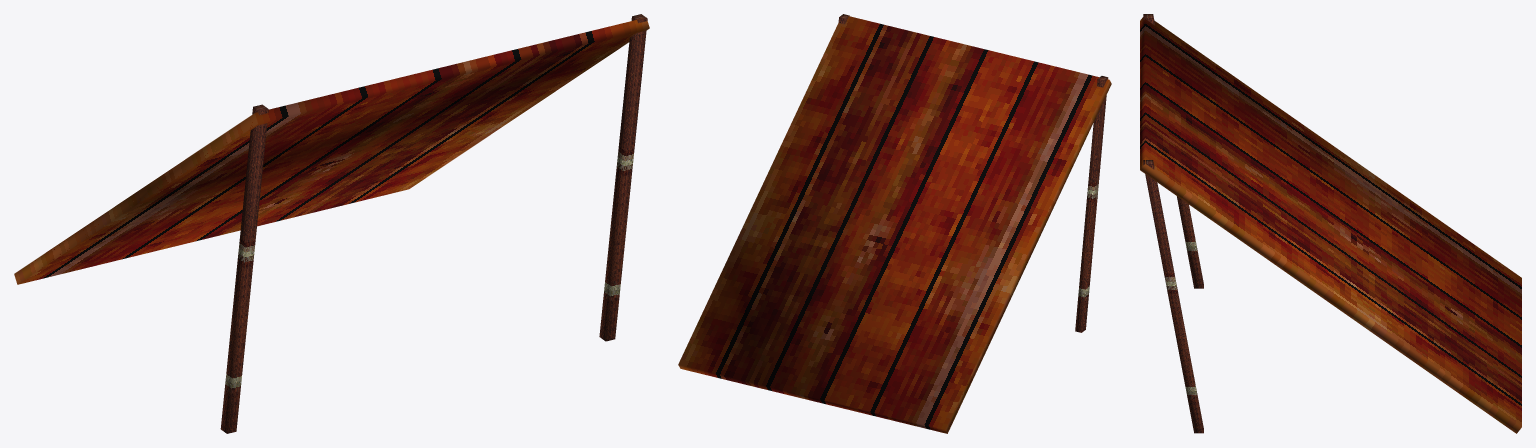
The model's file is LEANTO6_ACTORDEF.fbx.
The picture shows the model from 3 angles, left to right: view 1: azimuth 30°, elevation 25°; view 2: azimuth 150°, elevation 25°; view 3: azimuth 270°, elevation 25°; orthographic projection. The views are drawn at different scales.
Visible parts, largest first — view 1: T_LEANTO3_MDF, T_COUNTERFRNT_MDF; view 2: T_LEANTO3_MDF, T_COUNTERFRNT_MDF; view 3: T_LEANTO3_MDF, T_COUNTERFRNT_MDF.
Part boxes in pixels (x1,y1,x2,y2): T_LEANTO3_MDF: (14,17,649,284); T_COUNTERFRNT_MDF: (220,14,647,433); T_LEANTO3_MDF: (678,14,1111,433); T_COUNTERFRNT_MDF: (838,14,1108,332); T_LEANTO3_MDF: (1140,17,1521,433); T_COUNTERFRNT_MDF: (1143,14,1203,433).
Size of the model in its own units: 13.77 by 11.67 by 14.86.
